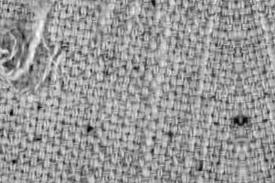snag: (1, 22, 70, 97)
